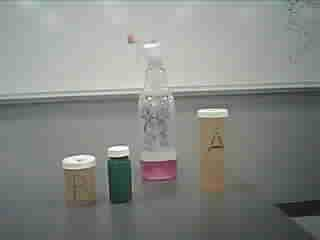Bottle A: (191, 102, 234, 196)
Bottle B: (58, 152, 103, 210)
Bottle C: (99, 141, 135, 205)
hazard: (133, 23, 184, 188)
